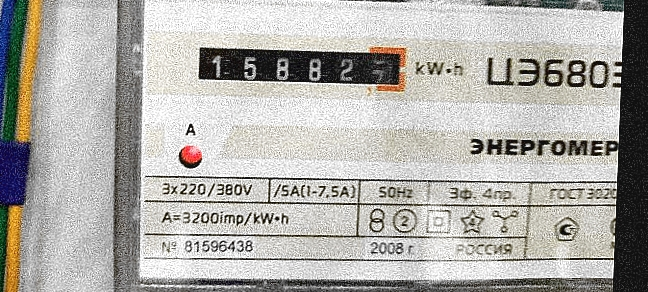1: (210, 49, 224, 79)
2: (337, 55, 355, 82)
5: (241, 53, 259, 83)
7: (370, 66, 384, 83)
8: (306, 54, 323, 83), (273, 54, 290, 82)
screen: (186, 29, 414, 99)
